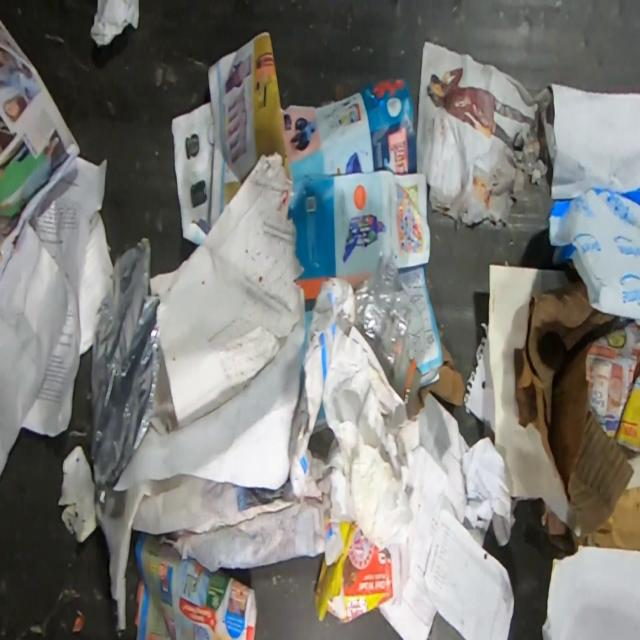cardboard: (514, 279, 633, 544), (314, 522, 393, 624), (408, 340, 465, 421), (582, 485, 640, 550)
rigid_plastic: (90, 0, 139, 46)
soft_plastic: (90, 236, 163, 509), (288, 276, 354, 497), (546, 186, 640, 325), (336, 255, 414, 403), (323, 522, 342, 567)
